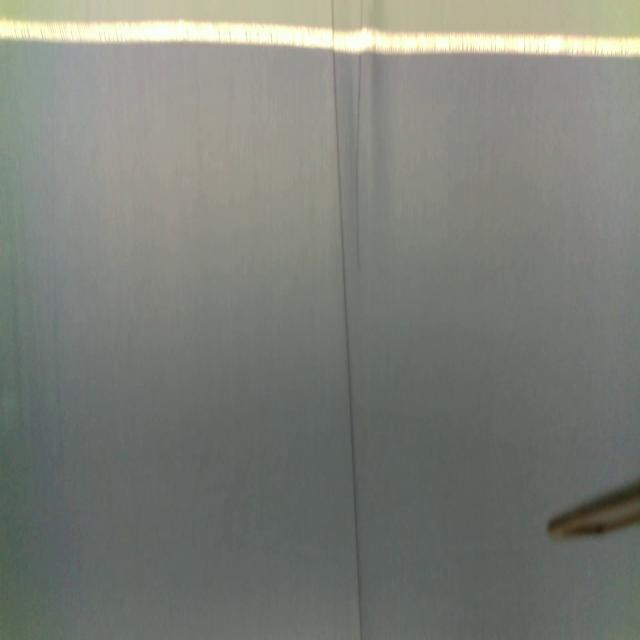crease: (329, 0, 363, 640), (354, 54, 365, 269)
